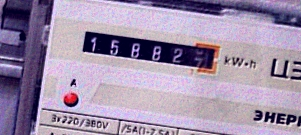1: (87, 35, 98, 52)
2: (170, 46, 183, 64)
5: (108, 38, 120, 55)
7: (192, 56, 203, 68)
8: (150, 44, 162, 62), (129, 42, 141, 59)
screen: (74, 21, 226, 81)
